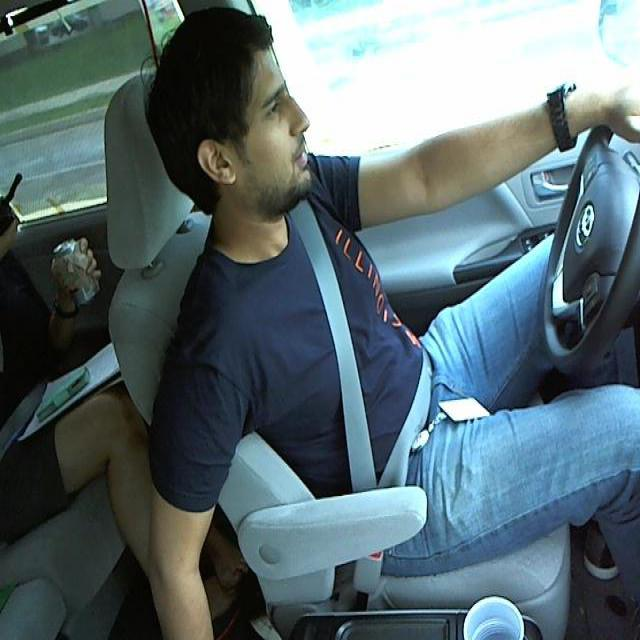seatbelt: (303, 225, 372, 463)
